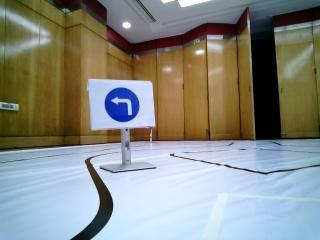left: (90, 82, 155, 129)
